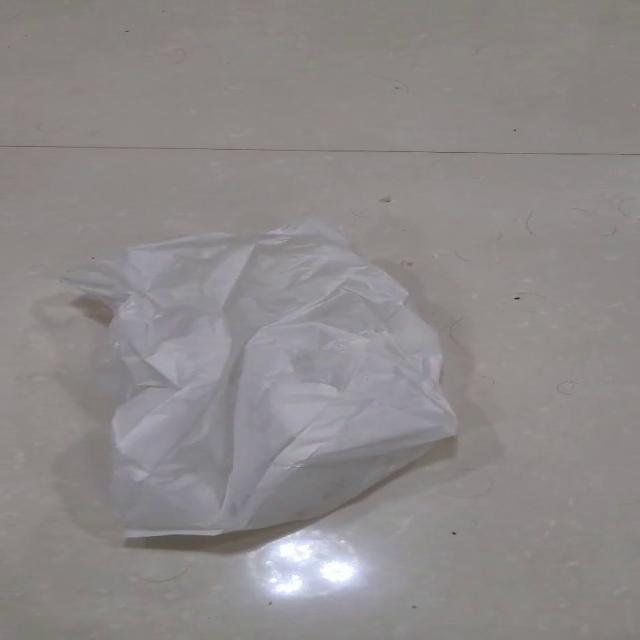plastic: (56, 215, 459, 538)
